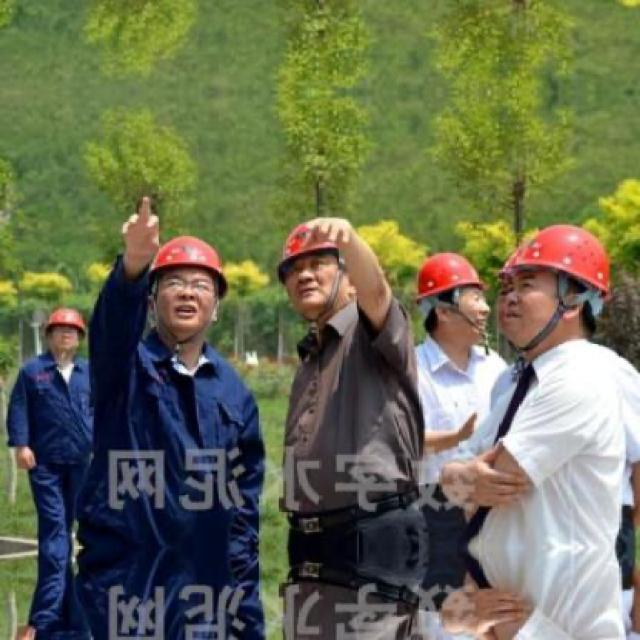con casco: (458, 214, 622, 344), (393, 205, 501, 336), (280, 196, 386, 312), (150, 195, 232, 328), (15, 296, 105, 380)
